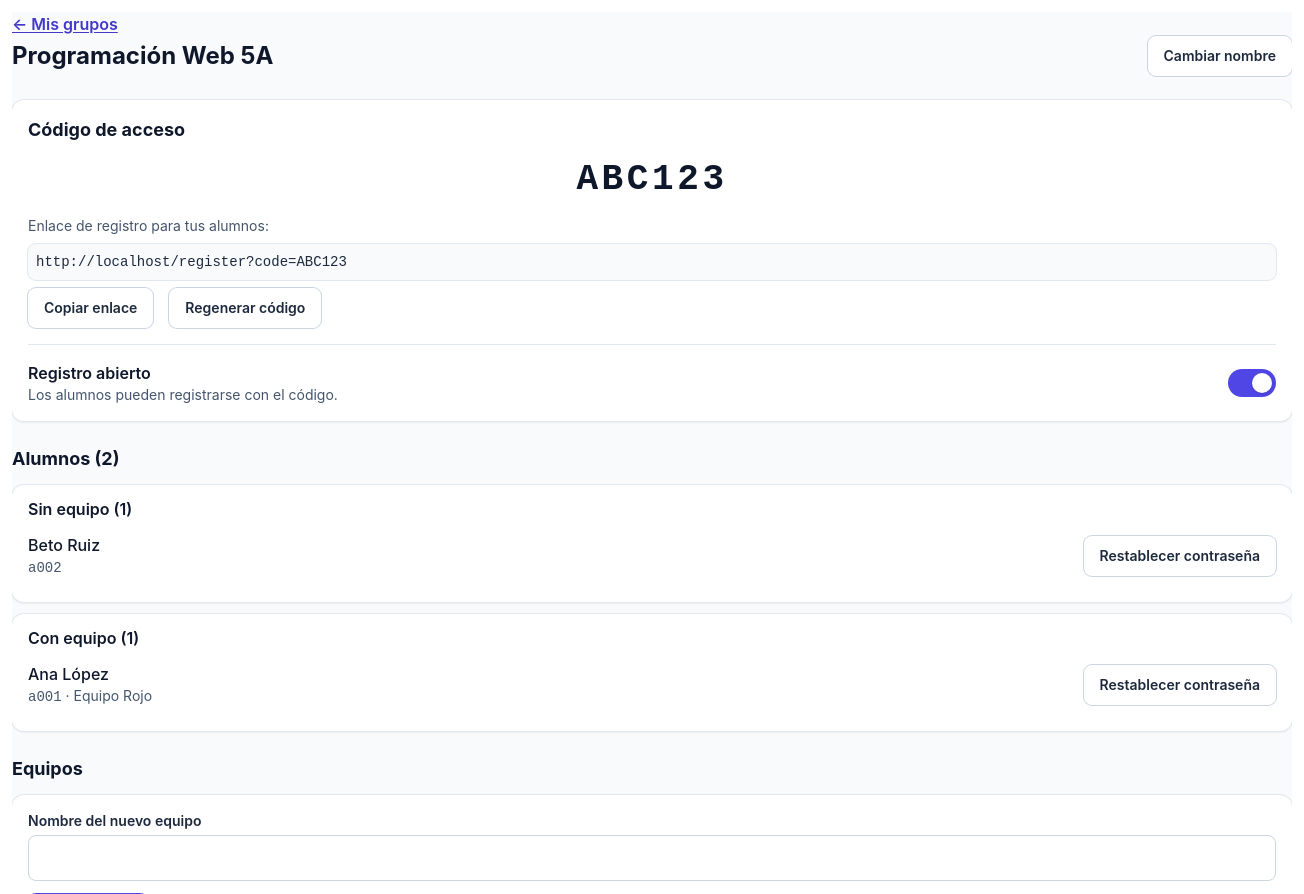
Scenario: GroupDetailPage › shows the access code and copies the registration link
The width and height of the screenshot is (1304, 894).
Expected: the heading "Programación Web 5A" is shown, [12, 40, 274, 72]
Expected: the text "ABC123" is shown, [576, 159, 728, 200]
Click the button "Copiar enlace".
click(91, 308)  # box [28, 288, 153, 328]
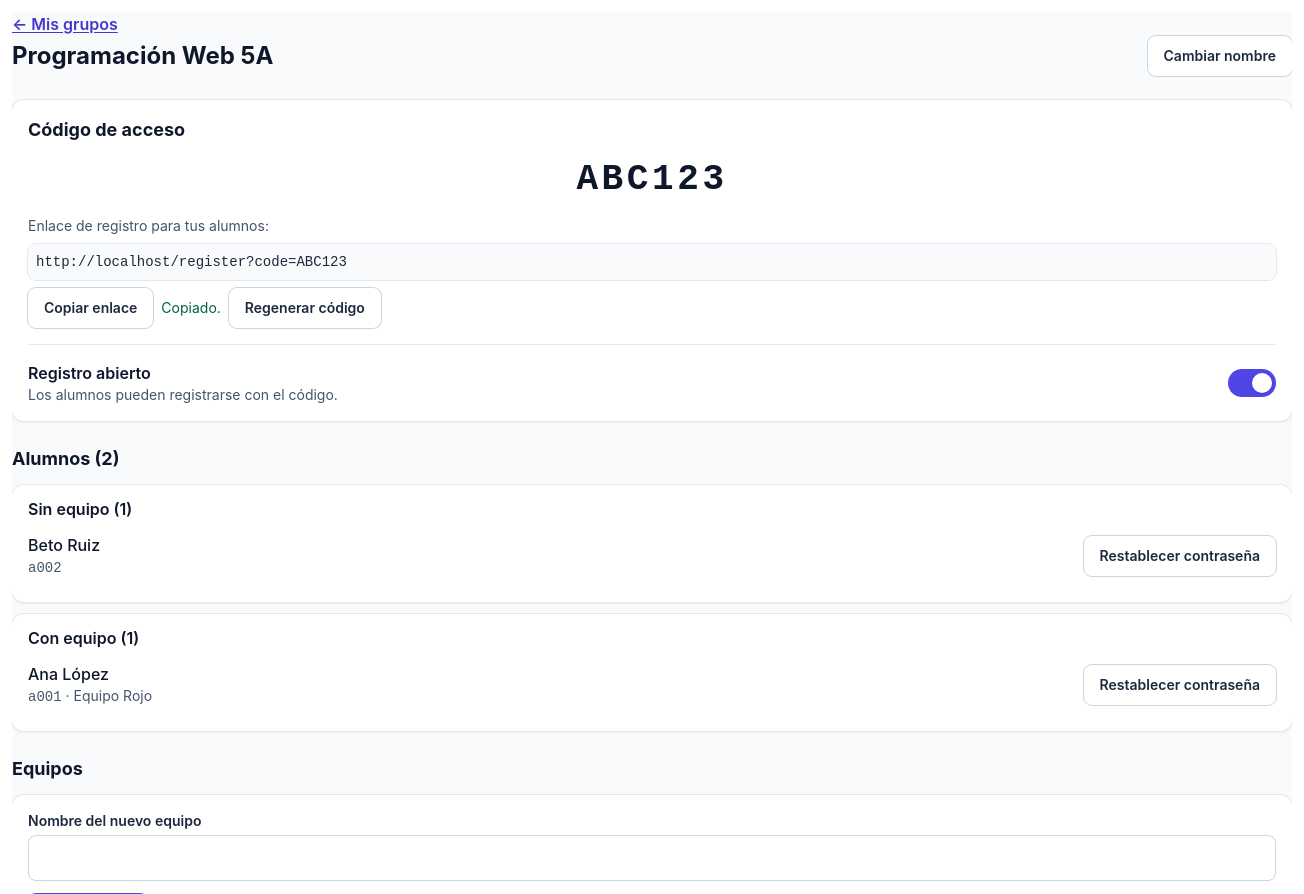
Expected: the text "Copiado." is shown, [161, 298, 221, 318]
